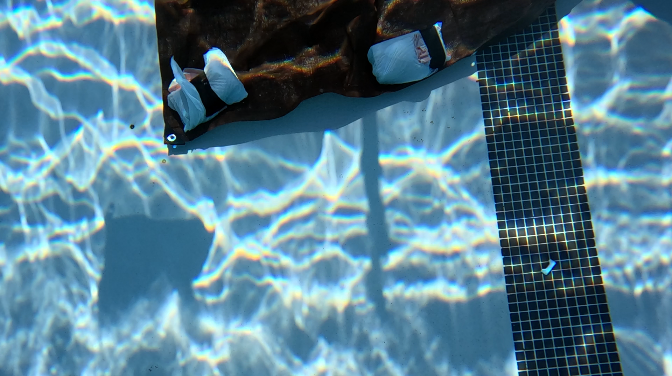sandbag: (154, 0, 555, 145)
